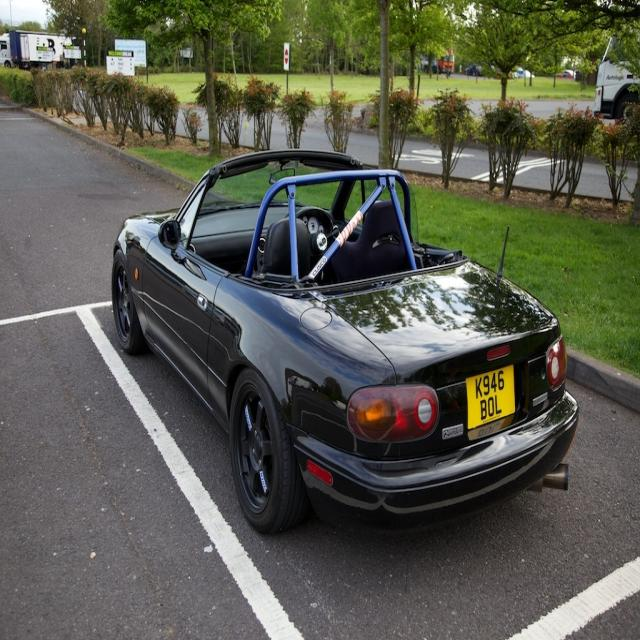car: (116, 159, 566, 545)
